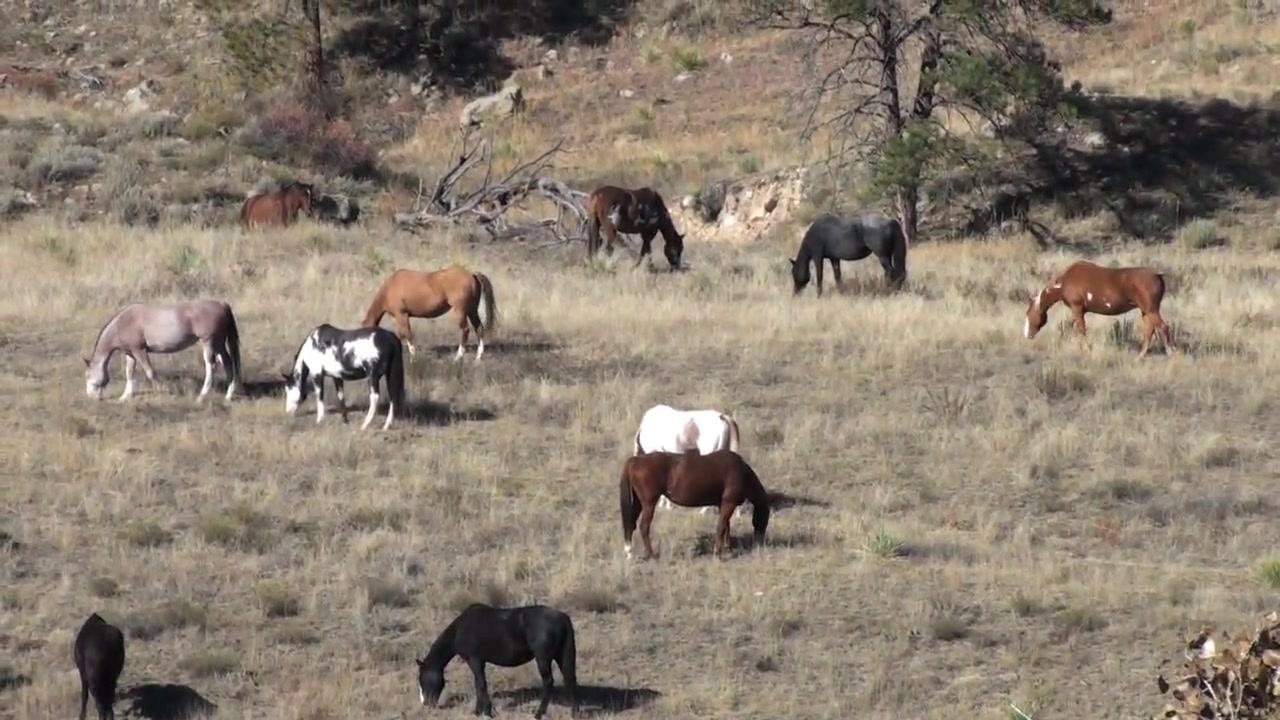horse: (1024, 261, 1179, 361)
